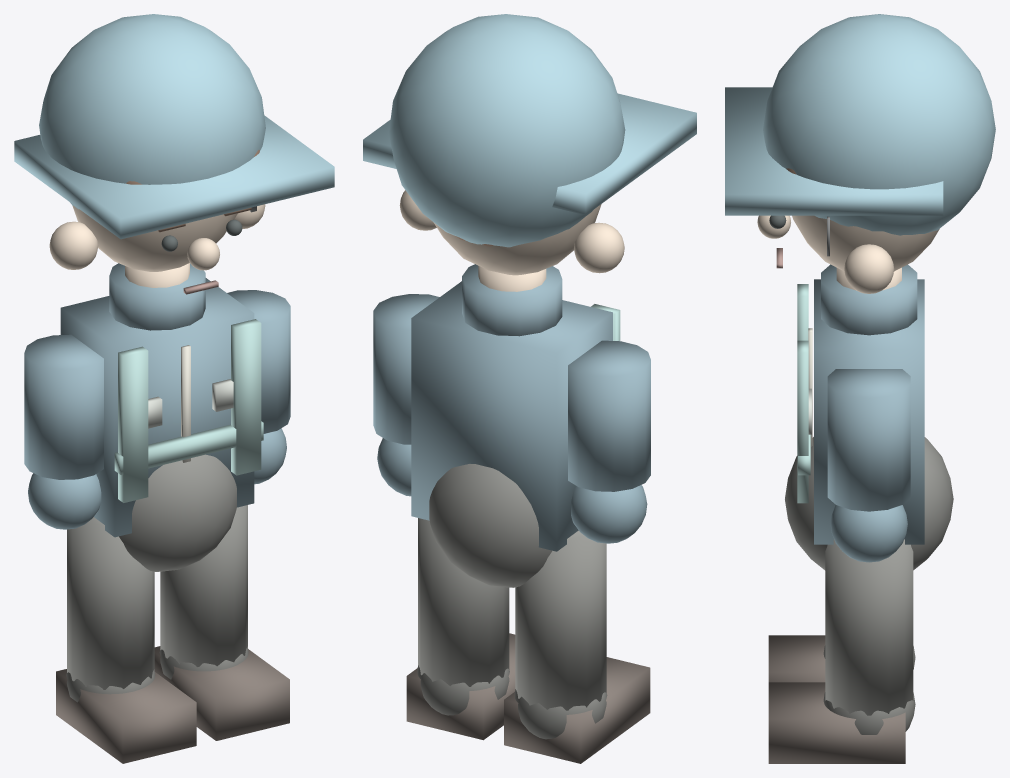
Rendered from mercy_person_10.glb.
3 renders of one model, left to right at view 1: azimuth 30°, elevation 25°; view 2: azimuth 150°, elevation 25°; view 3: azimuth 270°, elevation 25°, orthographic. The views are drawn at different scales.
Visible parts, largest first — view 1: SkinClothing_9, SkinClothing_0, Arm_Left, Leg_Left, SkinClothing_5, Leg_Right, SkinClothing_1, Boot_Left, SkinClothing_2, Boot_Right, Arm_Right, SkinClothing_4 (+1 smaller); view 2: SkinClothing_9, SkinClothing_0, Leg_Left, Arm_Left, Leg_Right, SkinClothing_1, SkinClothing_2, Arm_Right, Boot_Left, Boot_Right; view 3: SkinClothing_9, SkinClothing_0, Leg_Right, Arm_Right, Boot_Right, SkinClothing_2, SkinClothing_1, Boot_Left, SkinClothing_5.
Boxes of the visible parts, <box> form: SkinClothing_9: <box>14,14,334,239</box>; SkinClothing_0: <box>60,263,254,537</box>; Arm_Left: <box>24,334,103,529</box>; Leg_Left: <box>66,517,155,702</box>; SkinClothing_5: <box>114,319,263,502</box>; Leg_Right: <box>159,505,248,679</box>; SkinClothing_1: <box>119,454,236,571</box>; Boot_Left: <box>56,669,196,763</box>; SkinClothing_2: <box>49,204,265,287</box>; Boot_Right: <box>154,646,289,740</box>; Arm_Right: <box>227,290,290,484</box>; SkinClothing_4: <box>148,379,233,428</box>; SkinClothing_9: <box>363,14,696,247</box>; SkinClothing_0: <box>411,264,612,551</box>; Leg_Left: <box>514,530,607,739</box>; Arm_Left: <box>568,340,650,543</box>; Leg_Right: <box>417,518,509,715</box>; SkinClothing_1: <box>429,464,551,587</box>; SkinClothing_2: <box>399,190,624,291</box>; Arm_Right: <box>373,294,439,496</box>; Boot_Left: <box>504,657,650,763</box>; Boot_Right: <box>406,633,515,740</box>; SkinClothing_9: <box>725,14,995,235</box>; SkinClothing_0: <box>814,264,924,544</box>; Leg_Right: <box>823,539,915,734</box>; Arm_Right: <box>827,369,910,562</box>; Boot_Right: <box>768,682,905,763</box>; SkinClothing_2: <box>757,215,939,293</box>; SkinClothing_1: <box>785,437,953,570</box>; Boot_Left: <box>768,635,825,682</box>; SkinClothing_5: <box>797,284,810,503</box>.
Size of the model in its own units: 1.09 by 2.76 by 0.9706.
